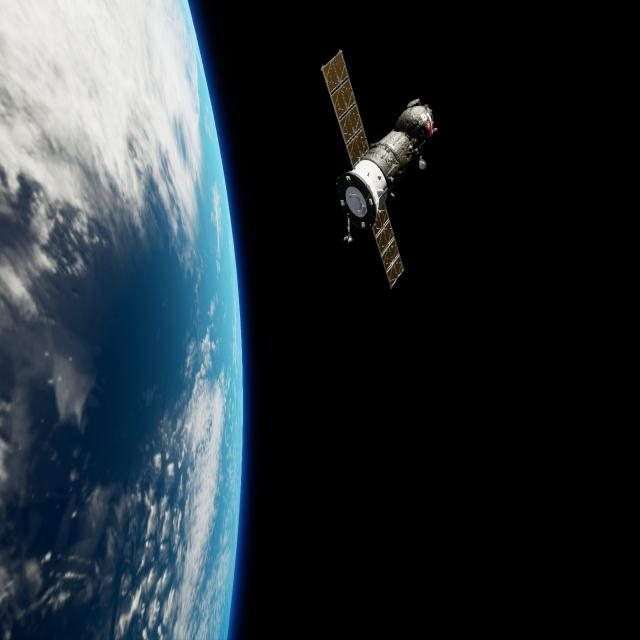Satellites revolving around earth: (1, 1, 245, 638), (318, 47, 438, 291)
